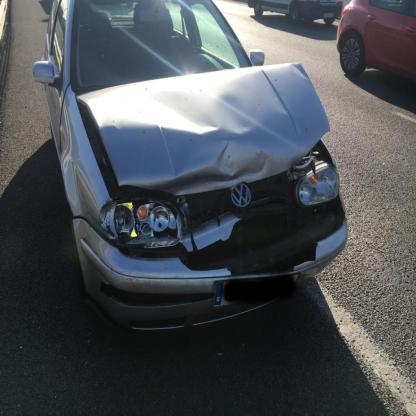door: (43, 77, 70, 167)
front_bumper: (73, 196, 348, 330)
headlamp: (114, 203, 177, 236), (300, 166, 340, 202)
hood: (76, 62, 329, 197)
